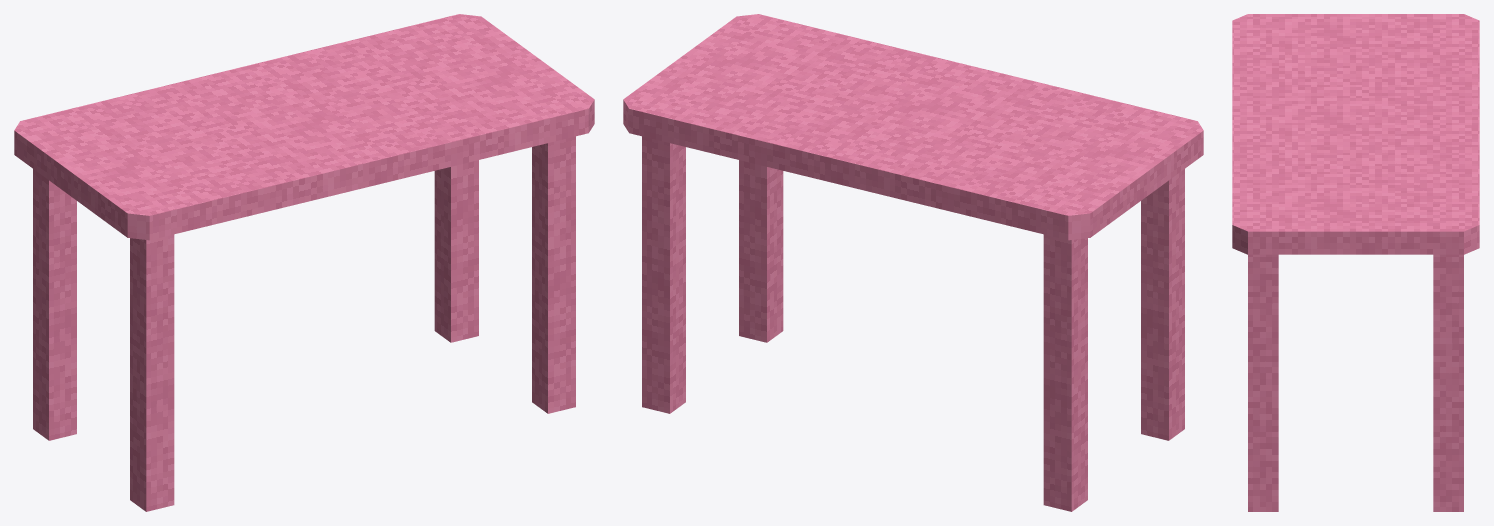
Rendered from desk.glb.
3 renders of one model, left to right at view 1: azimuth 30°, elevation 25°; view 2: azimuth 150°, elevation 25°; view 3: azimuth 270°, elevation 25°, orthographic. The views are drawn at different scales.
Parts seen in each view (by area): view 1: Top, Legs; view 2: Top, Legs; view 3: Top, Legs.
Boxes of the visible parts, box(x1,y1,x2,y2) form: Top: box(14, 14, 594, 240); Legs: box(33, 136, 575, 511); Top: box(623, 14, 1203, 240); Legs: box(642, 136, 1184, 511); Top: box(1232, 14, 1479, 254); Legs: box(1248, 254, 1463, 511).
Size of the model in its own units: 5 by 3.1 by 2.4.
Materials: 1 (1 with a texture image).
